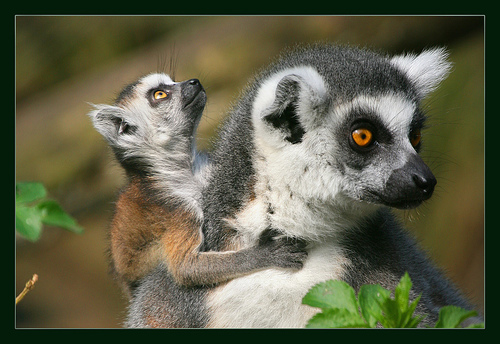cat: (119, 38, 479, 329), (83, 44, 308, 301)
